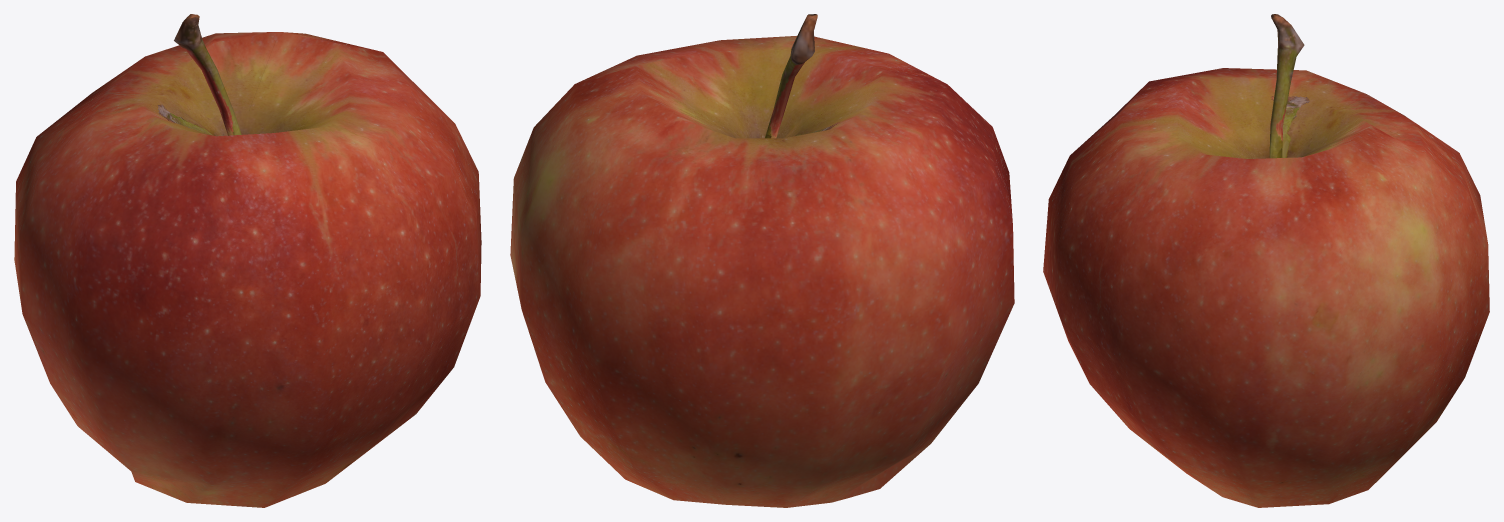
File: apple.fbx
The picture shows the model from 3 angles, left to right: view 1: azimuth 30°, elevation 25°; view 2: azimuth 150°, elevation 25°; view 3: azimuth 270°, elevation 25°; orthographic projection. The views are drawn at different scales.
Parts seen in each view (by area): view 1: RetopoFlow; view 2: RetopoFlow; view 3: RetopoFlow.
Part boxes in pixels (<box>): RetopoFlow: <box>14,14,481,507</box>; RetopoFlow: <box>510,14,1014,507</box>; RetopoFlow: <box>1043,14,1489,507</box>.
Size of the model in its own units: 0.1288 by 0.1387 by 0.1297.
1 material, 1 textured.
